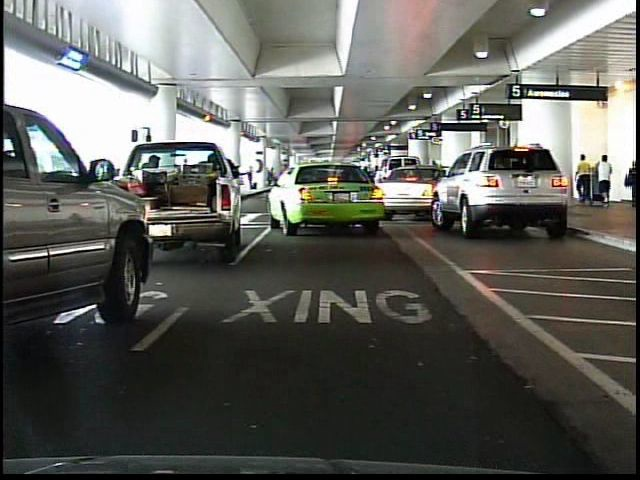person: (596, 152, 615, 208), (577, 151, 596, 207), (622, 159, 636, 210)
